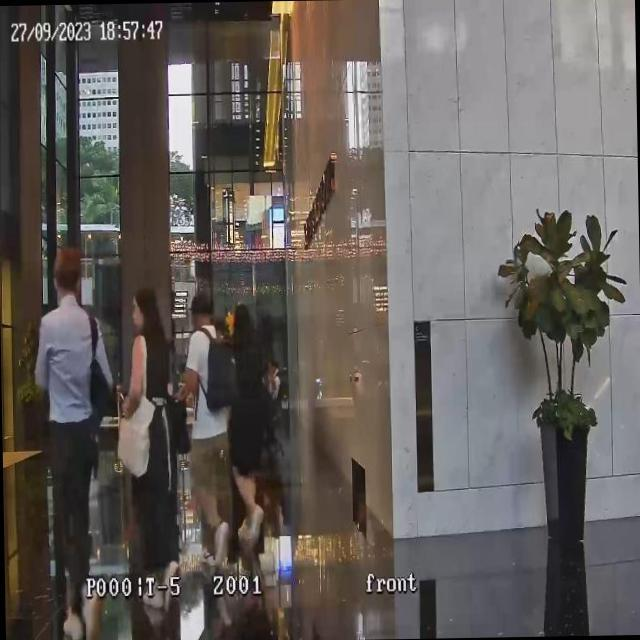person: (31, 245, 117, 633), (114, 286, 180, 590), (178, 286, 234, 576), (224, 302, 282, 568)
